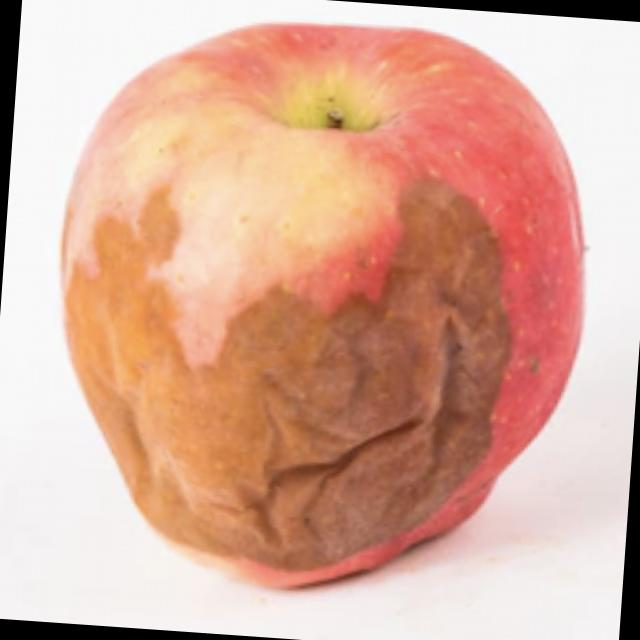rotten_apple: (33, 0, 598, 599)
